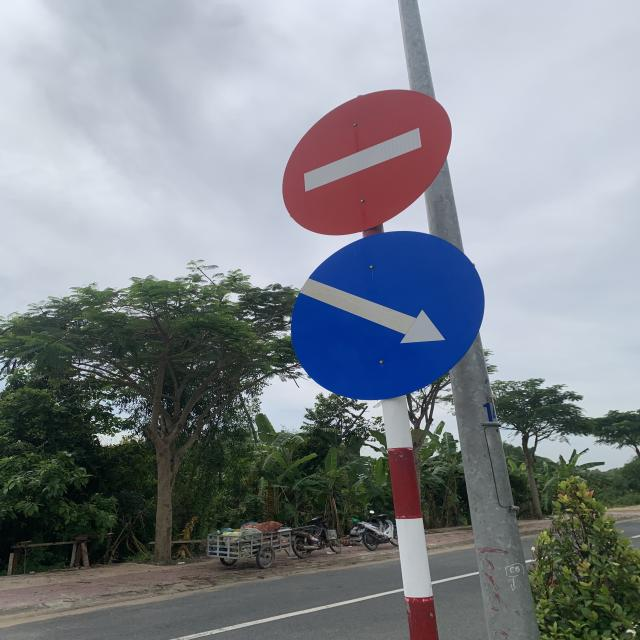Cam_Di_Nguoc_Chieu: (279, 87, 453, 236)
Chi_Huong_Di_Phai: (292, 230, 482, 399)
